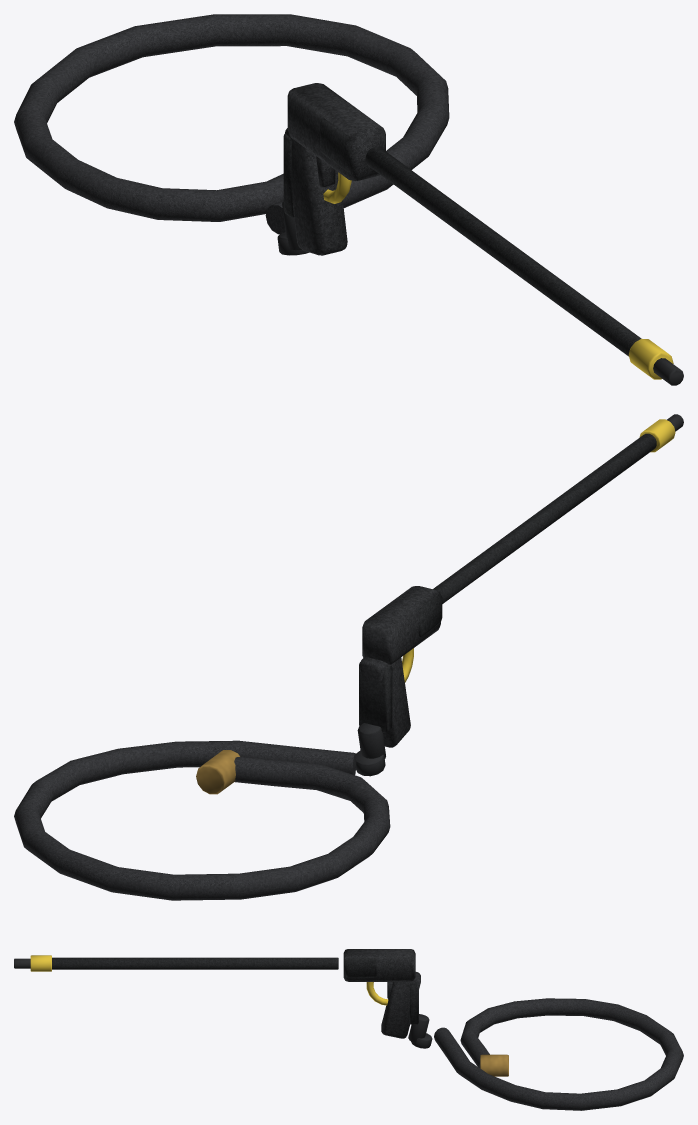
Rendered from asset_079_pressure_washer_hose_and_wand.glb.
The picture shows the model from 3 angles, top to bottom: view 1: azimuth 30°, elevation 25°; view 2: azimuth 150°, elevation 25°; view 3: azimuth 270°, elevation 25°; orthographic projection. The views are drawn at different scales.
Parts seen in each view (by area): view 1: MESH_WasherHoseCoil, MESH_WandLance, MESH_GunBody, MESH_GunGrip, MESH_GunShroud, MESH_WandTipCollar, MESH_GunGripStrap, MESH_WandNozzle; view 2: MESH_WasherHoseCoil, MESH_WandLance, MESH_GunBody, MESH_GunGrip, MESH_GunGripStrap, MESH_HoseMachineCoupler, MESH_GunHoseInlet; view 3: MESH_WasherHoseCoil, MESH_WandLance, MESH_GunBody, MESH_GunGrip, MESH_GunShroud, MESH_HoseMachineCoupler, MESH_GunGripStrap, MESH_GunHoseInlet, MESH_WandTipCollar.
Part boxes in pixels (x1,y1,x2,y2): MESH_WasherHoseCoil: (14,14,449,234); MESH_WandLance: (365,147,641,356); MESH_GunBody: (287,83,384,180); MESH_GunGrip: (285,128,347,255); MESH_GunShroud: (320,118,385,172); MESH_WandTipCollar: (628,339,673,379); MESH_GunGripStrap: (283,133,294,217); MESH_WandNozzle: (653,358,683,385); MESH_WasherHoseCoil: (14,740,390,900); MESH_WandLance: (433,433,656,603); MESH_GunBody: (362,586,440,664); MESH_GunGrip: (360,657,410,747); MESH_GunGripStrap: (359,662,392,732); MESH_HoseMachineCoupler: (196,750,239,794); MESH_GunHoseInlet: (357,723,385,759); MESH_WasherHoseCoil: (434,998,683,1110); MESH_WandLance: (52,957,338,969); MESH_GunBody: (343,949,415,981); MESH_GunGrip: (381,972,420,1038); MESH_GunShroud: (345,958,376,977); MESH_HoseMachineCoupler: (480,1054,508,1076); MESH_GunGripStrap: (409,982,418,1024); MESH_GunHoseInlet: (408,1014,429,1042); MESH_WandTipCollar: (30,955,51,971).
Size of the model in its own units: 0.5059 by 0.225 by 1.4.
6 materials, 4 textured.
